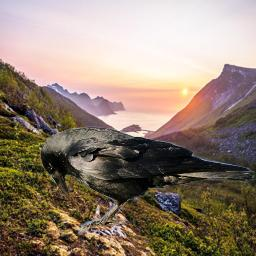Crow: (40, 126, 256, 235)
